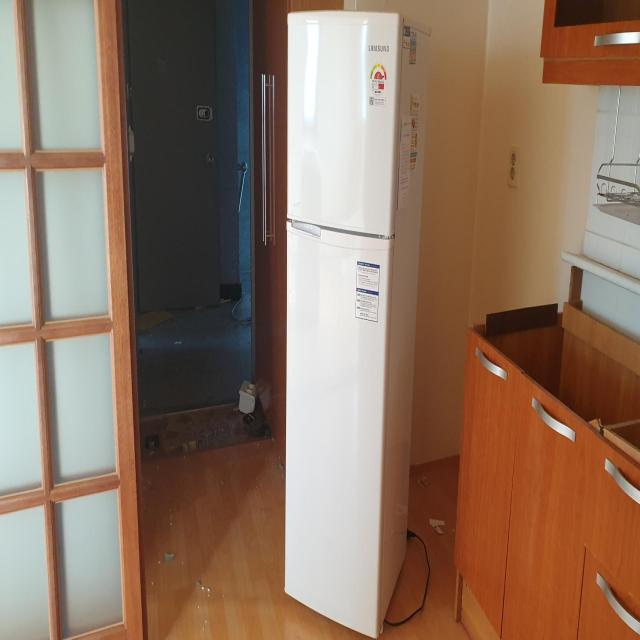refrigerator: (284, 11, 432, 639)
